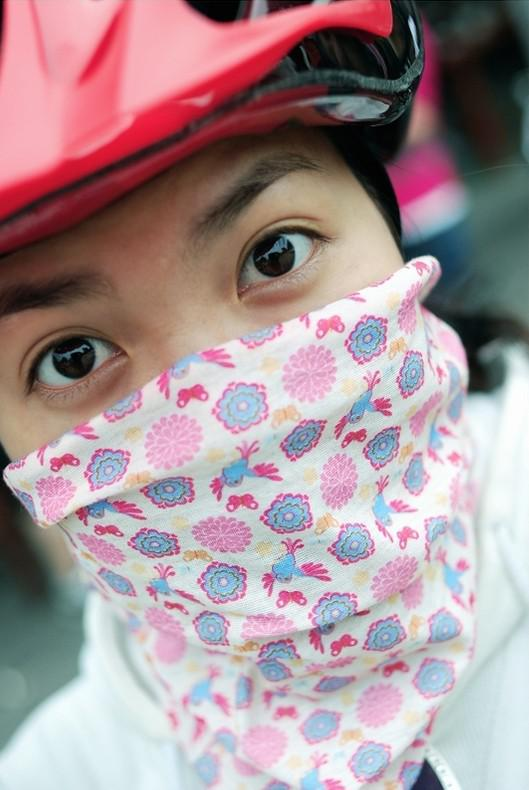OK: (6, 144, 485, 623)
